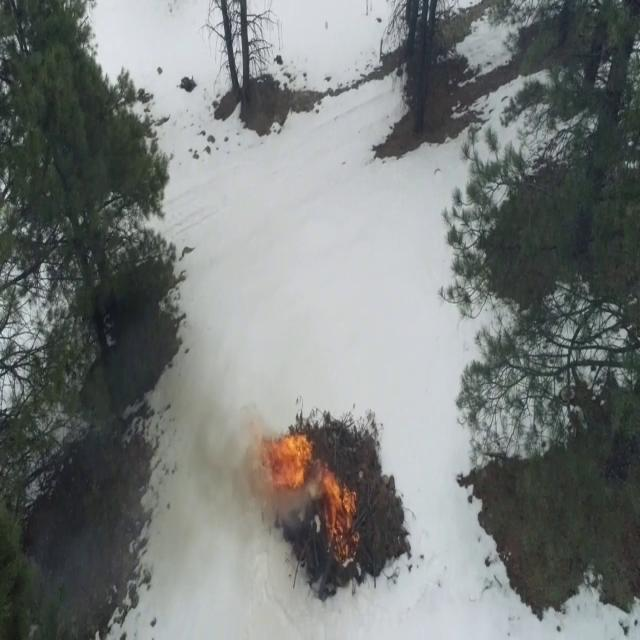fire: (261, 432, 309, 494), (324, 480, 358, 562)
